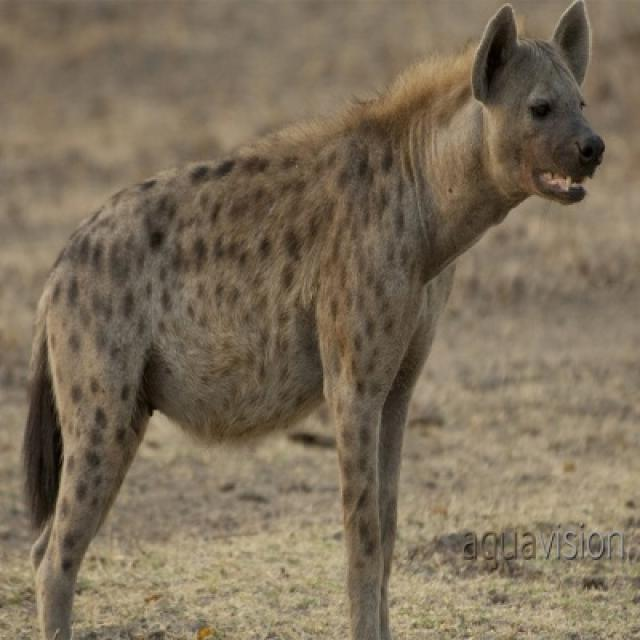hyena: (22, 0, 603, 638)
